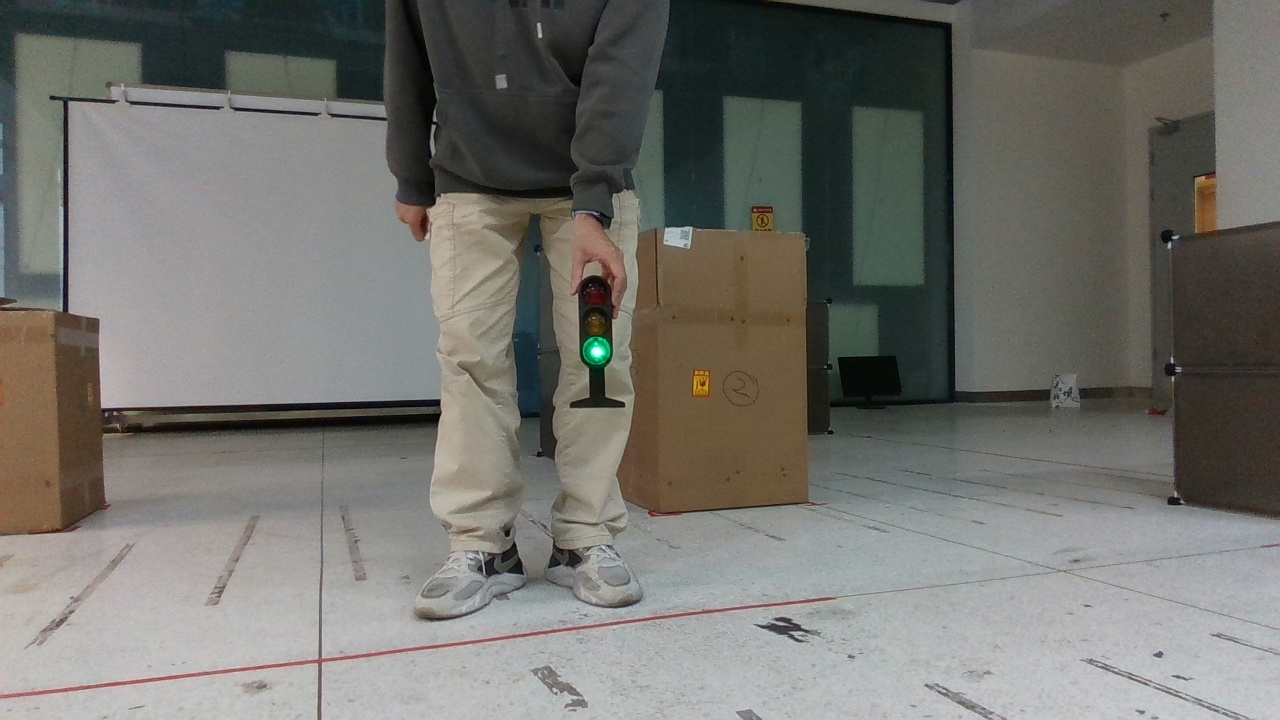green_light: (569, 270, 631, 416)
